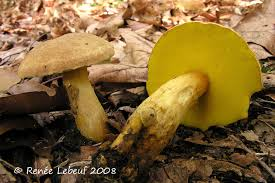boletus_poisinous: (145, 19, 266, 137), (13, 27, 123, 94)
